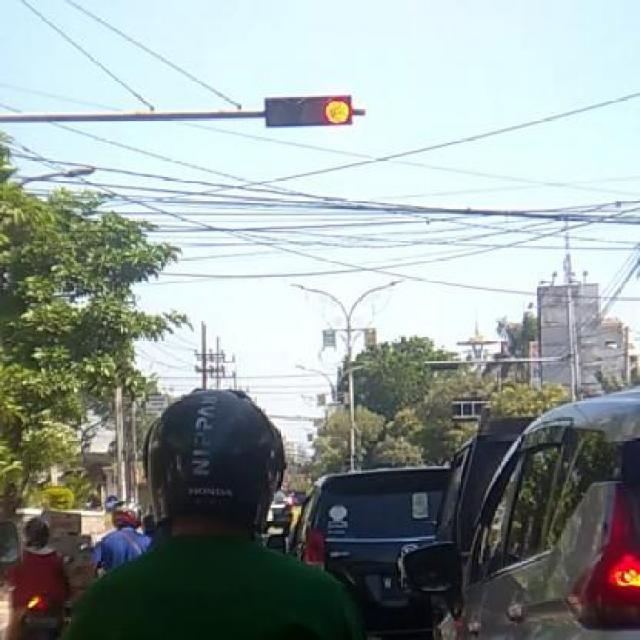traffic light: (263, 97, 353, 128)
